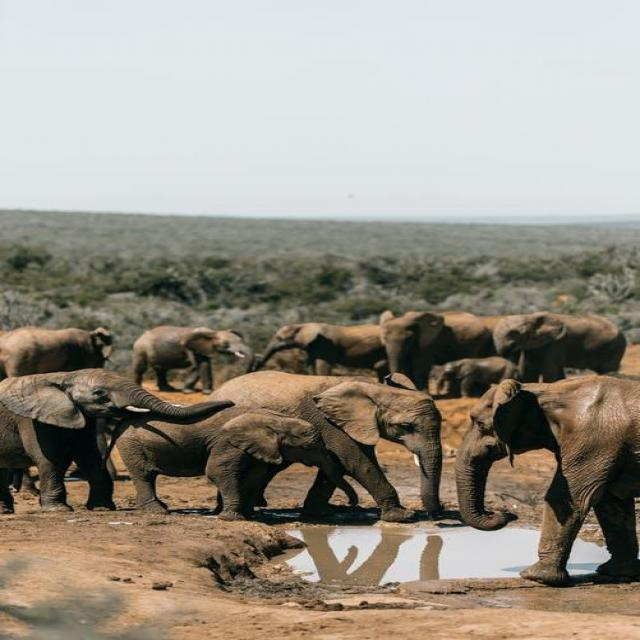Elephant: (206, 360, 458, 519), (456, 364, 640, 580), (124, 406, 407, 536), (2, 372, 234, 509), (484, 312, 640, 377), (372, 302, 491, 384), (132, 322, 264, 392), (264, 321, 369, 386), (425, 352, 522, 398)
